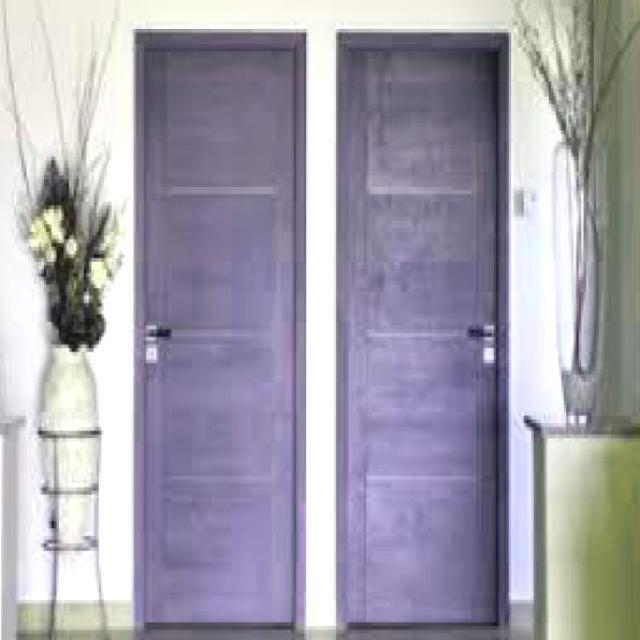door: (328, 26, 512, 630), (133, 30, 302, 628)
